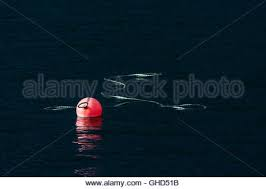buoy: (76, 97, 102, 116)
